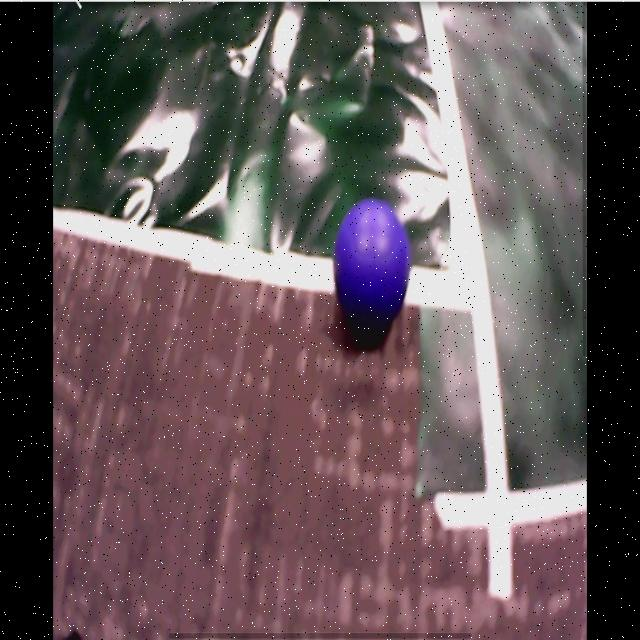ball: (333, 203, 413, 323)
